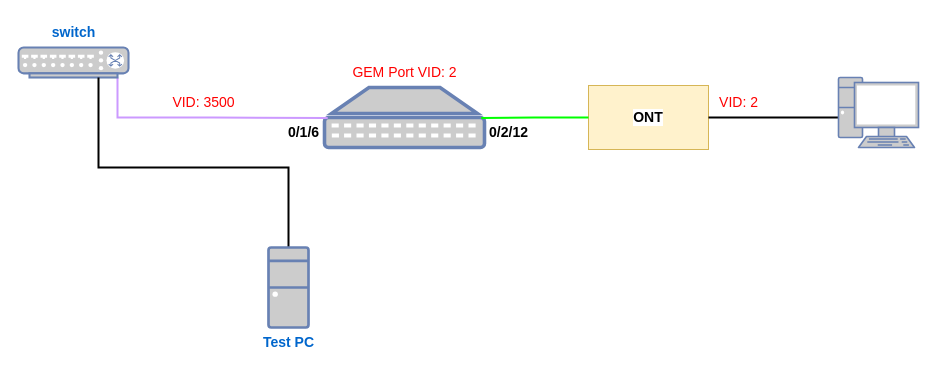
Image size: 936x368. Some labels were removed from this diagram. Here are the shapes that lost their labels. From the top down, the box of each, then its label:
(323, 86, 485, 148): OLT
(837, 76, 919, 148): PC
